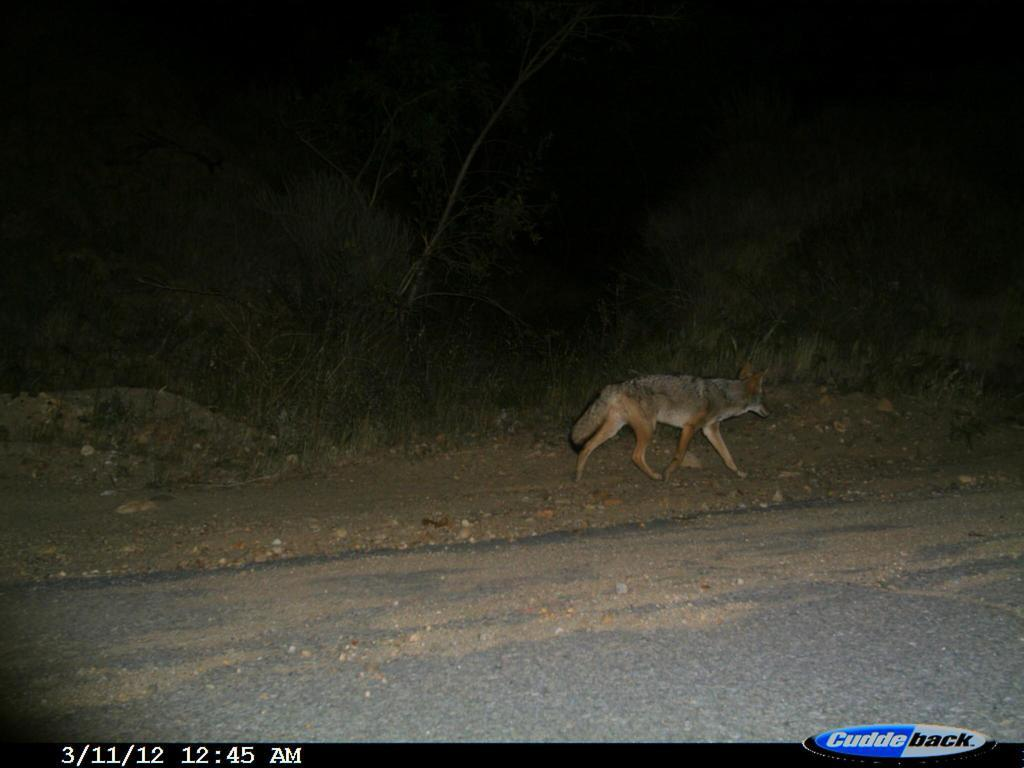coyote: (561, 365, 780, 493)
